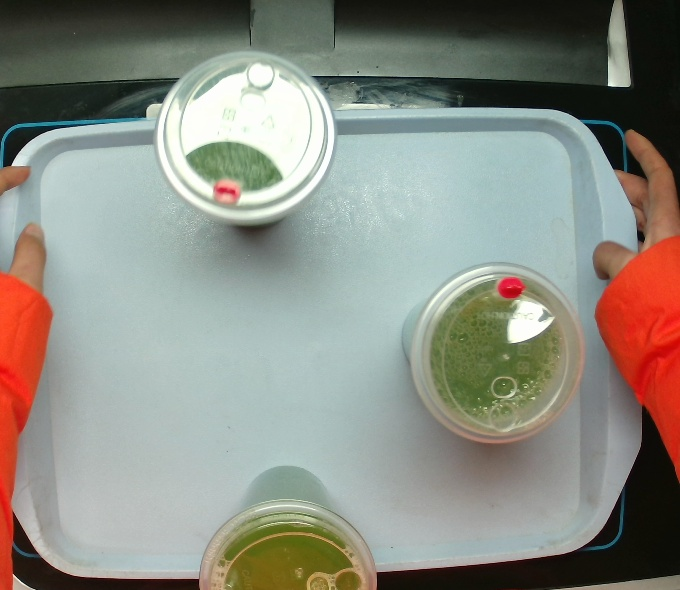wcq-HuangGuaZhi: (150, 48, 339, 234), (398, 260, 587, 446), (194, 463, 378, 590)
